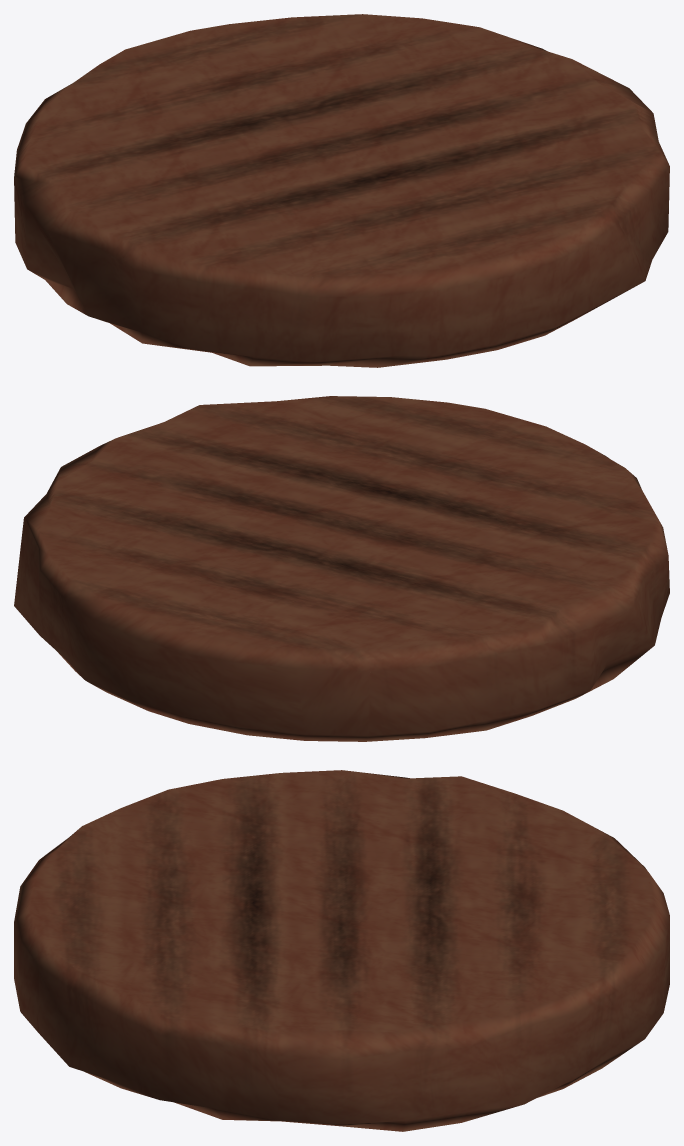
File: MeatPattyCooked_Visual.glb
3 renders of one model, top to bottom at view 1: azimuth 30°, elevation 25°; view 2: azimuth 150°, elevation 25°; view 3: azimuth 270°, elevation 25°, orthographic. The views are drawn at different scales.
Visible parts, largest first — view 1: Cooked_meat_patty; view 2: Cooked_meat_patty; view 3: Cooked_meat_patty.
Boxes of the visible parts, x1=… form: Cooked_meat_patty: x1=14, y1=14, x2=669, y2=367; Cooked_meat_patty: x1=14, y1=396, x2=669, y2=741; Cooked_meat_patty: x1=14, y1=770, x2=669, y2=1131.
Size of the model in its own units: 0.7156 by 0.1083 by 0.691.
1 material, 1 textured.
